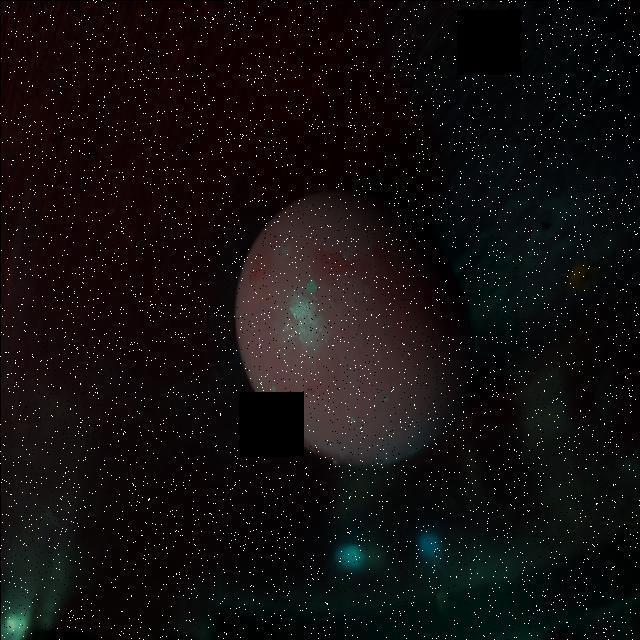egg: (231, 182, 476, 472)
